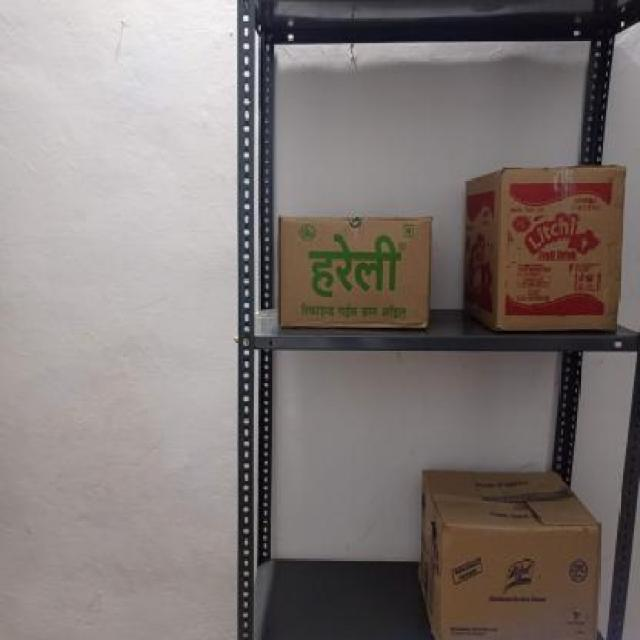box: (503, 172, 620, 334), (434, 525, 602, 635), (279, 221, 433, 335)
